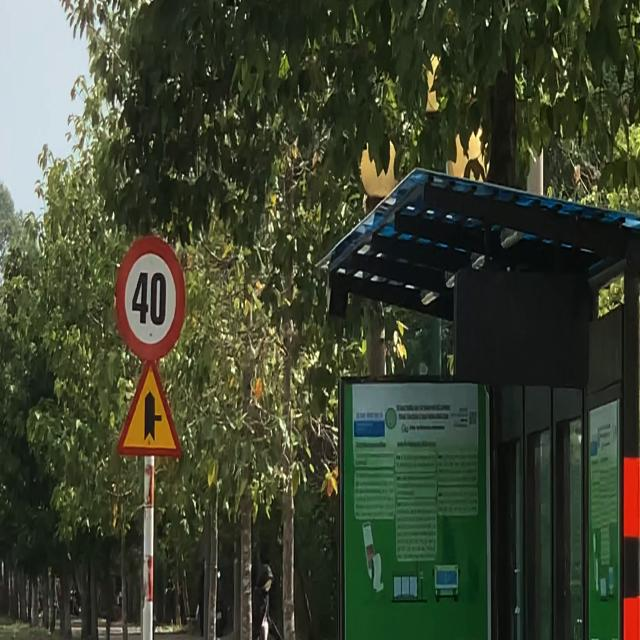Giao voi duong khong uu tien: (115, 357, 186, 462)
Toc do toi da: (117, 234, 187, 359)
